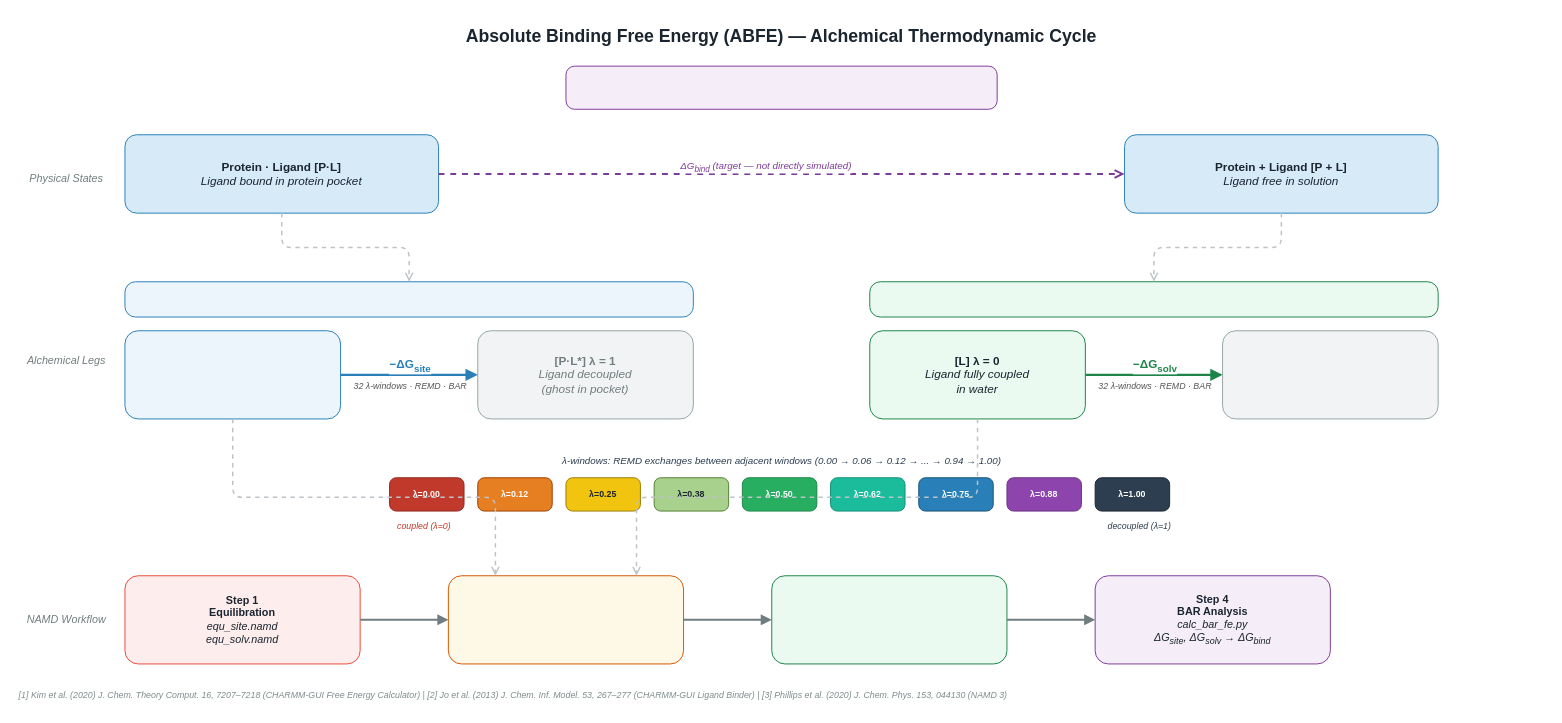
The diagram is 1562 pixels wide and 723 high, and some of its shapes have lost their labels. The box of each missing label's shape, as (x1, y1, x2, y2) in pixels:
[L*] λ = 1 Ligand decoupled (ghost in water): (1222, 330, 1438, 419)
[P·L] λ = 0 Ligand fully coupled in protein pocket: (124, 330, 341, 419)
LEG 1: Complex (site): (124, 281, 693, 317)
LEG 2: Solvation (solv): (869, 281, 1438, 317)
Step 2 REMD FEP Run namd3 +replicas N FEP_remd_softcore.namd: (447, 575, 684, 664)
Step 3 Sort Replicas sort_replicas.py (un-shuffle λ trajectories): (771, 575, 1007, 664)
ΔG bind = ΔG site − ΔG solv: (565, 65, 997, 109)
